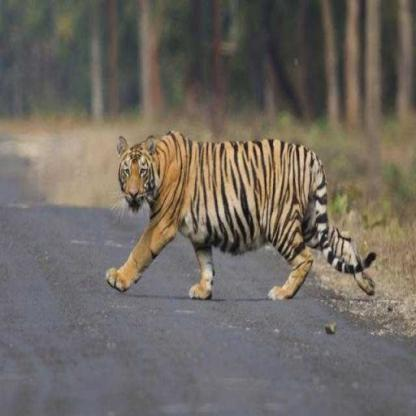Tiger: (103, 121, 387, 308)
